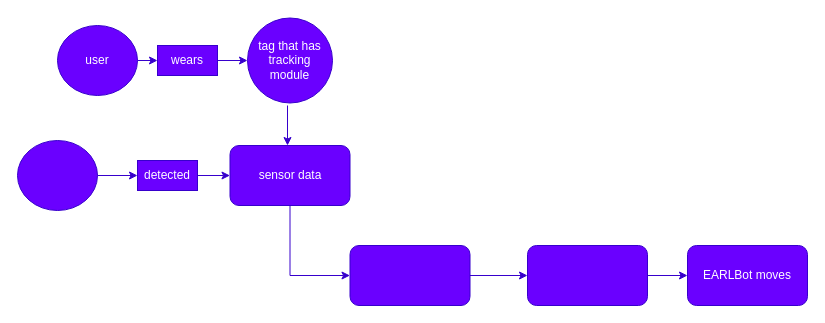
Some shapes in this 825 by 323 pixel diagram are drawn without their labels. The box of each missing label's shape, as (x1, y1, x2, y2) in pixels:
navigation control: (349, 244, 470, 306)
obstacles: (16, 140, 98, 210)
wheel and rotation control: (526, 244, 648, 306)
